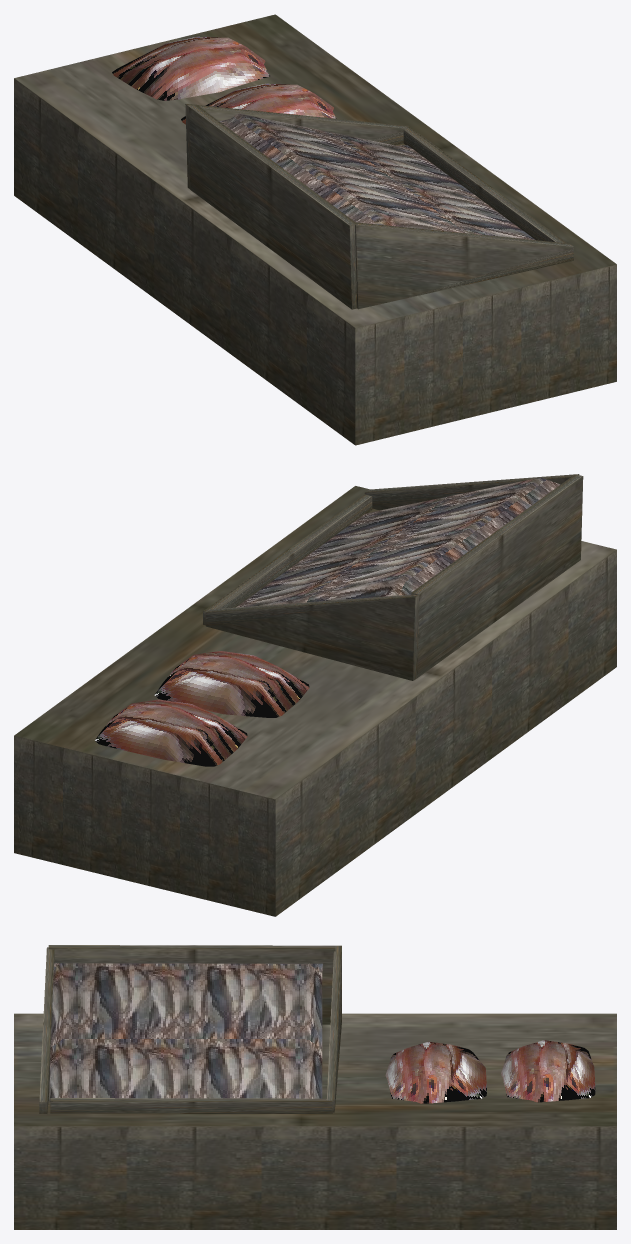
File: fishtable.glb
3 views of the same model, one above another, from view 1: azimuth 30°, elevation 25°; view 2: azimuth 150°, elevation 25°; view 3: azimuth 270°, elevation 25° (orthographic). The views are drawn at different scales.
Visible parts, largest first — view 1: fishtable.ms3d.mo; view 2: fishtable.ms3d.mo; view 3: fishtable.ms3d.mo.
Boxes of the visible parts, box(x1,y1,x2,y2) form: fishtable.ms3d.mo: box(14, 14, 616, 445); fishtable.ms3d.mo: box(14, 474, 616, 916); fishtable.ms3d.mo: box(14, 945, 616, 1229).
Bounding box in the file's own units: 27.08 × 19.97 × 61.22.
Materials: 3 (3 with a texture image).
